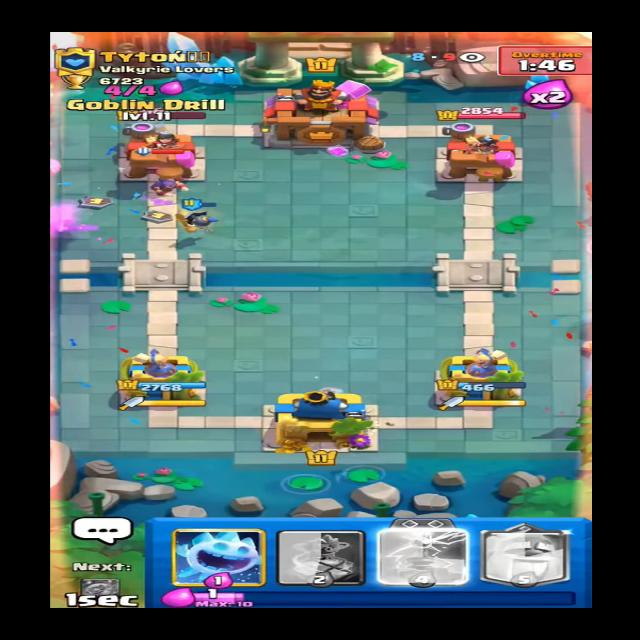evo-wizard: (125, 161, 201, 196)
